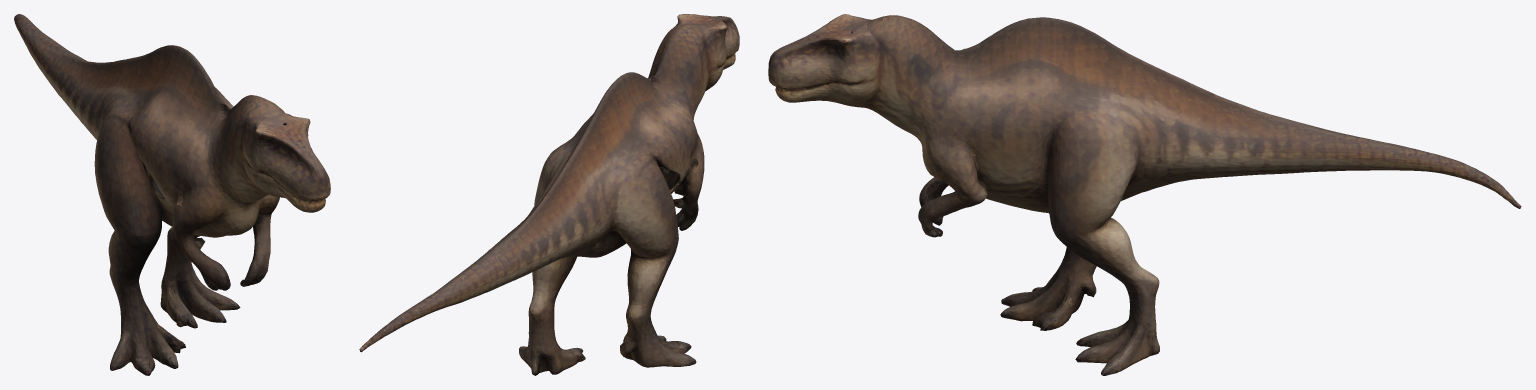
3 views of the same model, side by side, from view 1: azimuth 30°, elevation 25°; view 2: azimuth 150°, elevation 25°; view 3: azimuth 270°, elevation 25° (orthographic). The views are drawn at different scales.
Visible parts, largest first — view 1: world; view 2: world; view 3: world.
Boxes of the visible parts, left/top/right/bottom form: world: left=14, top=14, right=330, bottom=375; world: left=359, top=14, right=739, bottom=375; world: left=768, top=14, right=1521, bottom=375.
Bounding box in the file's own units: 0.2629 × 0.4694 × 1.
Materials: 1 (1 with a texture image).
